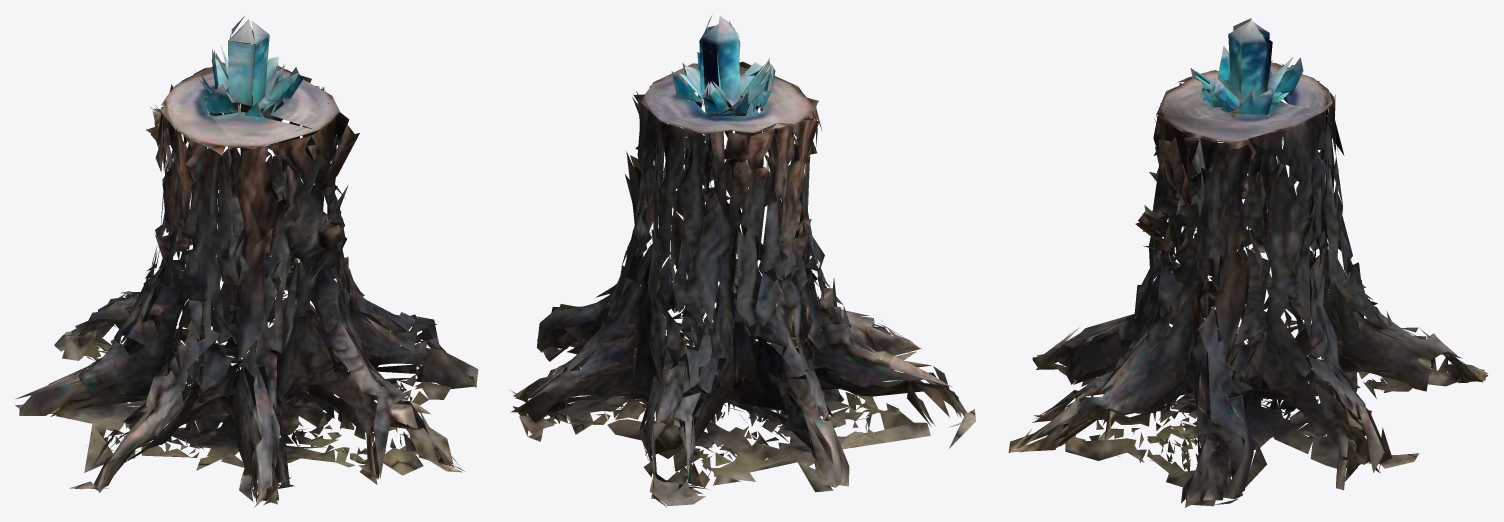
The model's file is arvore_cristal_mana_toco.glb.
3 renders of one model, left to right at view 1: azimuth 30°, elevation 25°; view 2: azimuth 150°, elevation 25°; view 3: azimuth 270°, elevation 25°, orthographic.
Visible parts, largest first — view 1: geometry_0; view 2: geometry_0; view 3: geometry_0.
Boxes of the visible parts, left/top/right/bottom form: geometry_0: left=15, top=16, right=478, bottom=507; geometry_0: left=510, top=16, right=975, bottom=507; geometry_0: left=1008, top=18, right=1487, bottom=507.
Size of the model in its own units: 0.996 by 0.9236 by 0.9982.
1 material, 1 textured.
